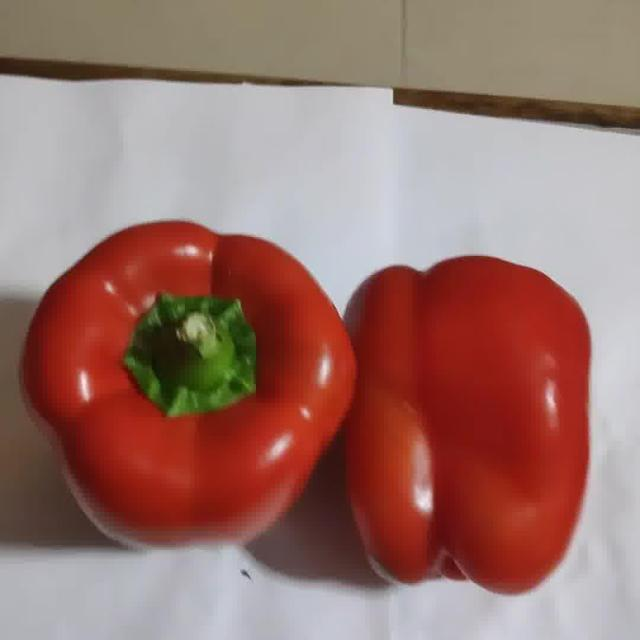Bell Pepper: (21, 221, 354, 543), (345, 256, 590, 593)
